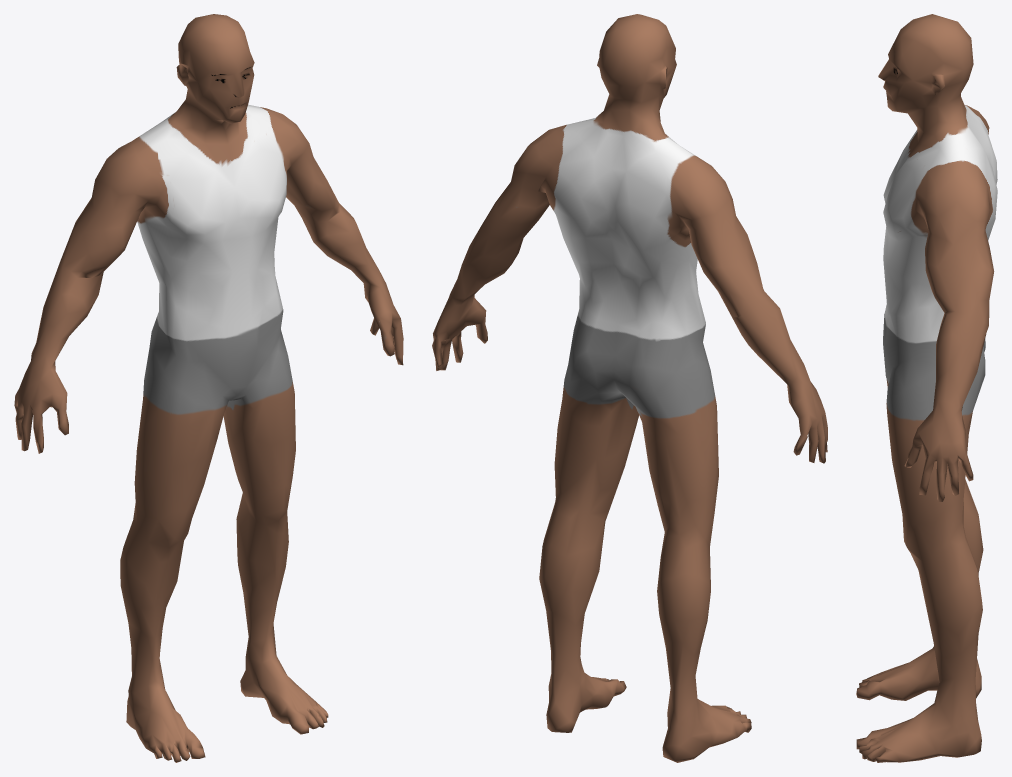
File: playerNoRig.fbx
3 views of the same model, side by side, from view 1: azimuth 30°, elevation 25°; view 2: azimuth 150°, elevation 25°; view 3: azimuth 270°, elevation 25° (orthographic).
Visible parts, largest first — view 1: FinalBaseMesh; view 2: FinalBaseMesh; view 3: FinalBaseMesh.
Part boxes in pixels (x1,y1,x2,y2): FinalBaseMesh: [14, 14, 403, 762]; FinalBaseMesh: [432, 14, 827, 762]; FinalBaseMesh: [856, 14, 997, 762].
Bounding box in the file's own units: 101 × 180 × 32.63.
Materials: 1 (1 with a texture image).
